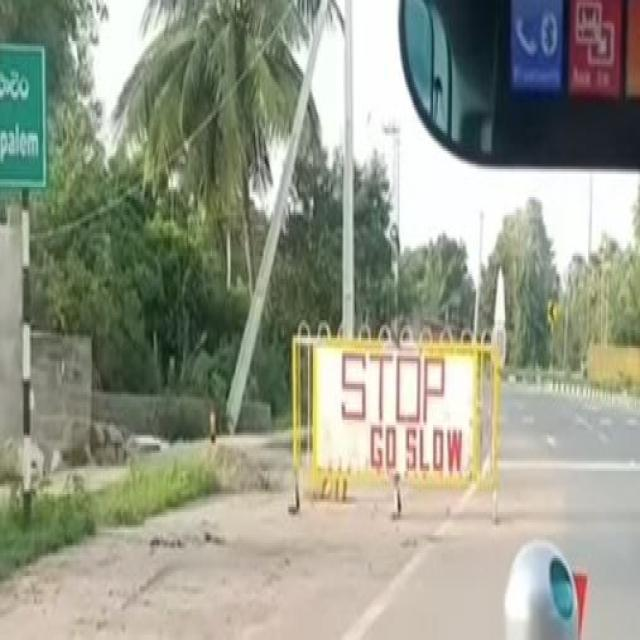go_slow: (300, 420, 495, 492)
stop: (291, 321, 474, 421)
